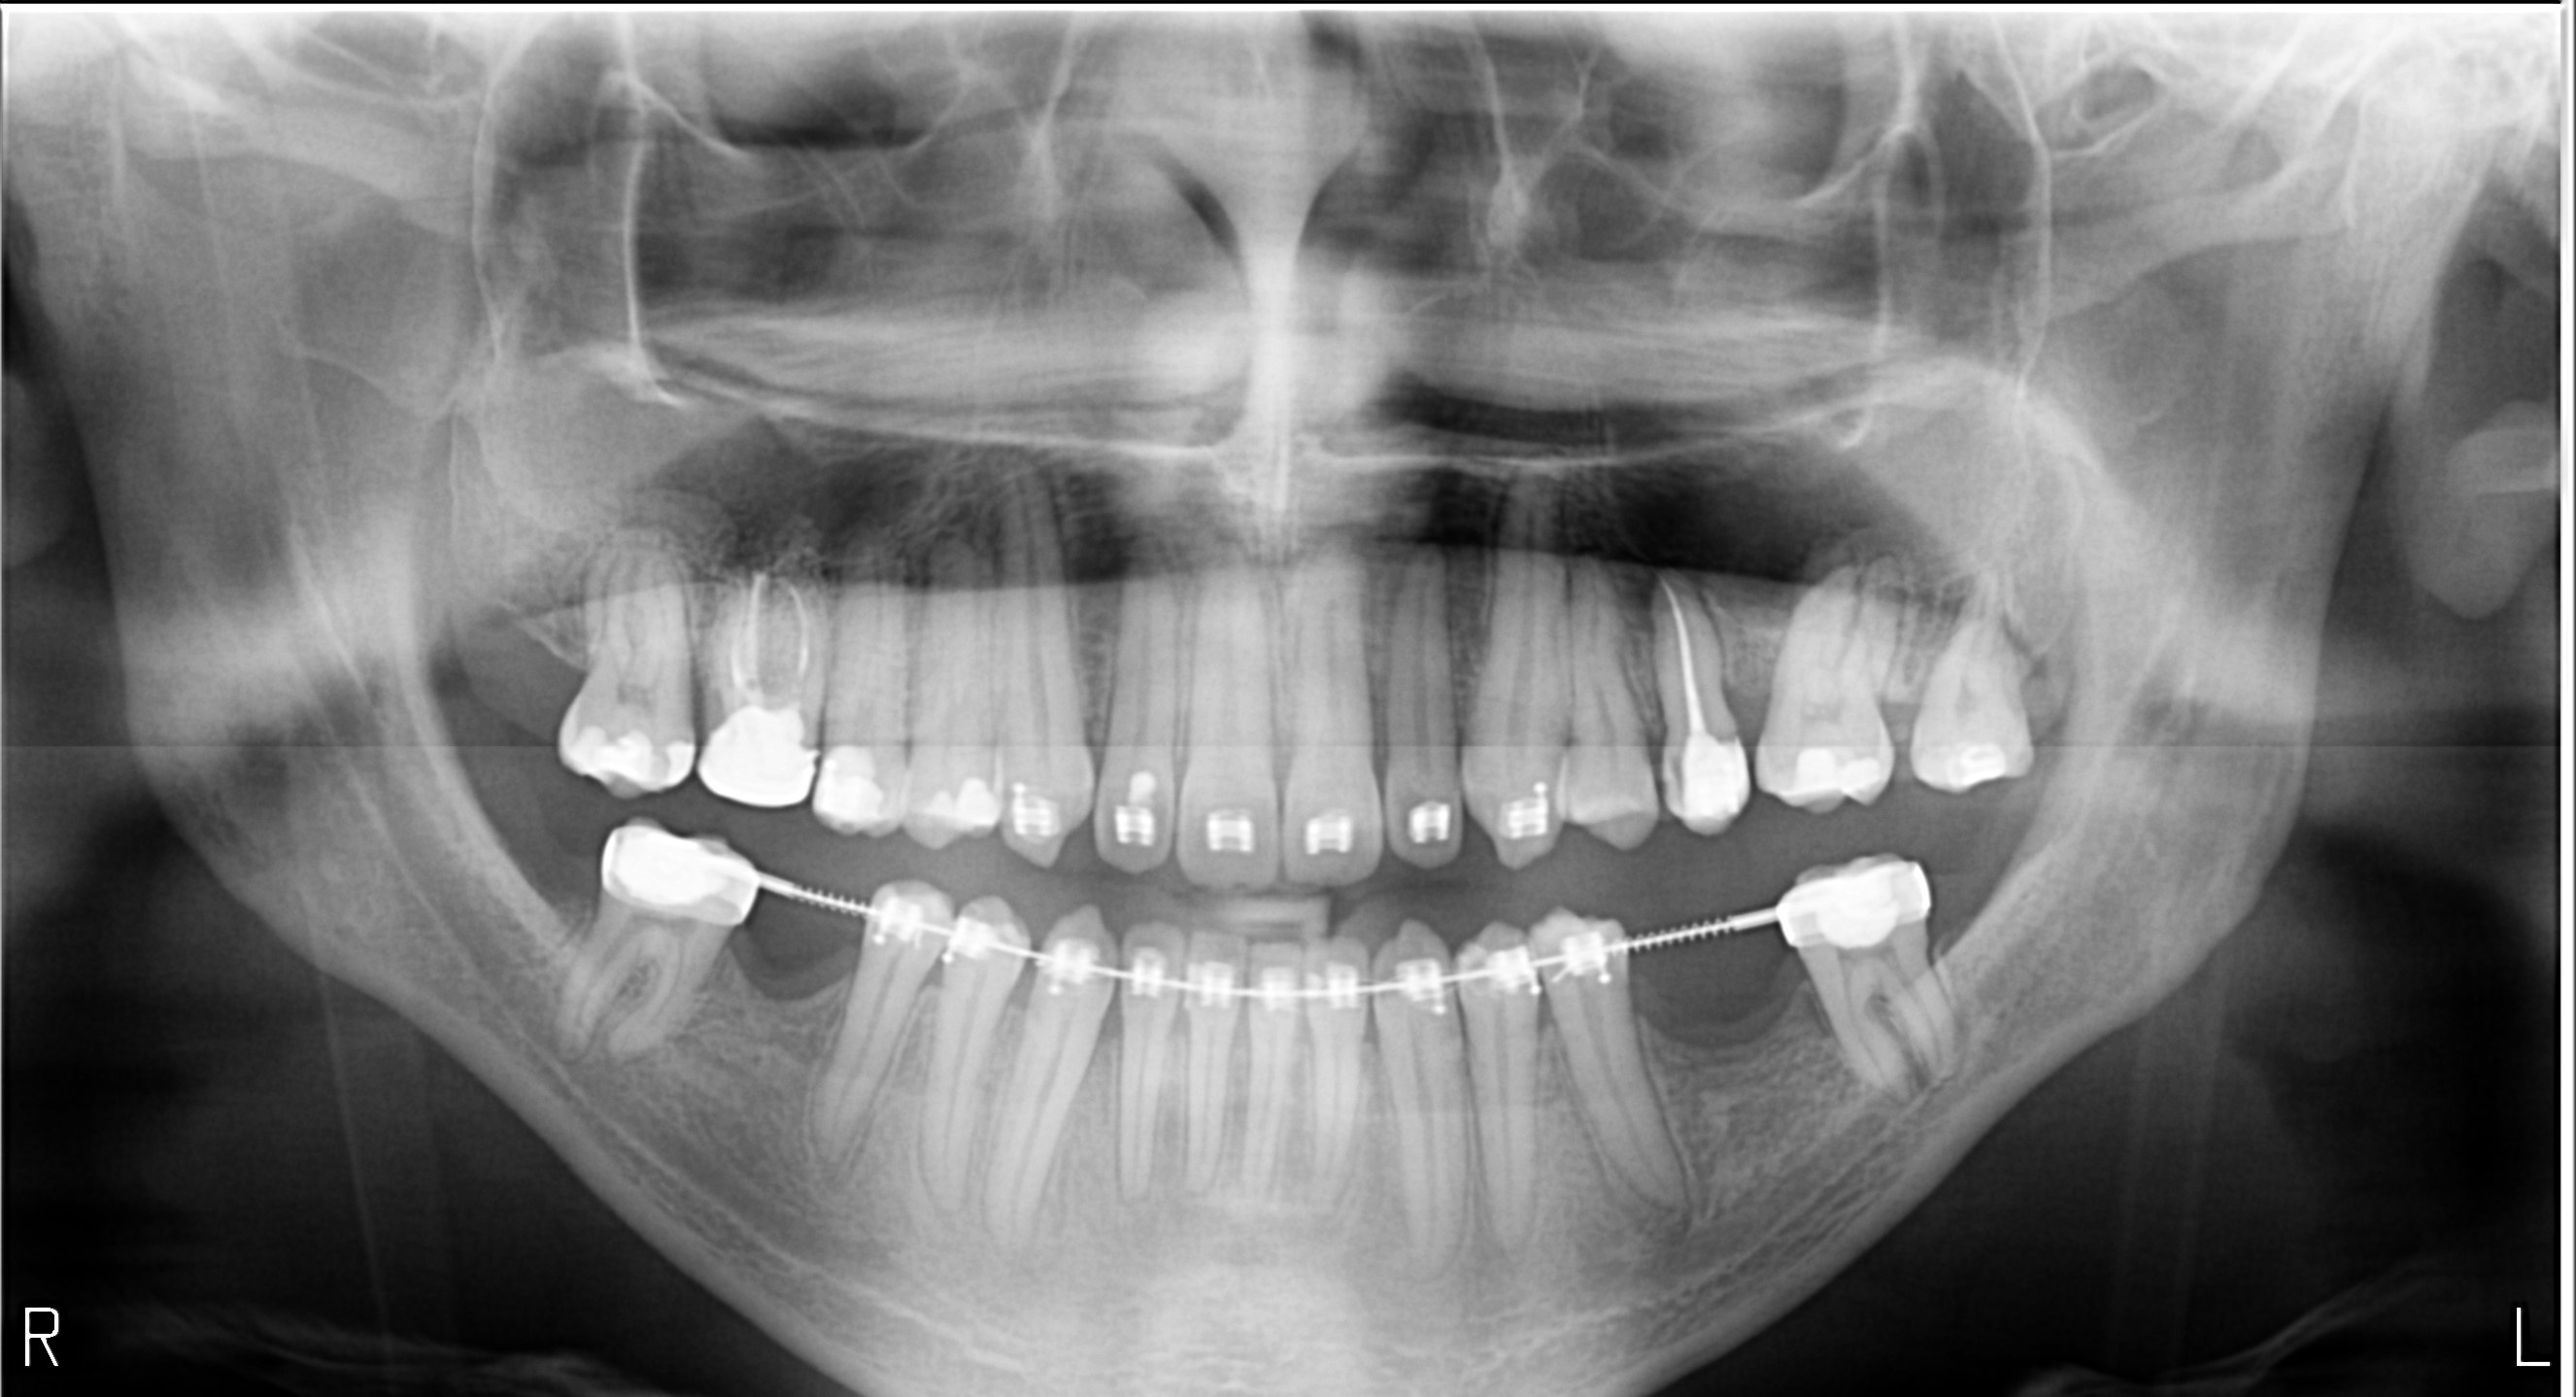BON: (1861, 686, 1929, 743), (1909, 905, 1966, 970), (1714, 669, 1771, 728), (1083, 998, 1133, 1049)
END: (726, 551, 822, 709), (1653, 566, 1711, 731)
OBT: (695, 702, 820, 814), (1663, 726, 1756, 831), (559, 716, 655, 790), (1788, 740, 1892, 807), (813, 743, 889, 833), (923, 774, 1004, 843), (1947, 738, 2012, 788), (1121, 759, 1166, 812), (659, 735, 698, 786)
ORD: (1116, 934, 1460, 1020), (1766, 853, 1943, 957), (590, 819, 762, 924), (1472, 920, 1625, 1012), (1018, 931, 1106, 1008), (1395, 785, 1457, 862), (1493, 778, 1558, 850), (872, 881, 937, 953), (999, 776, 1059, 853), (937, 910, 1009, 974), (1295, 803, 1362, 860), (1202, 802, 1260, 864), (1104, 793, 1162, 853)
